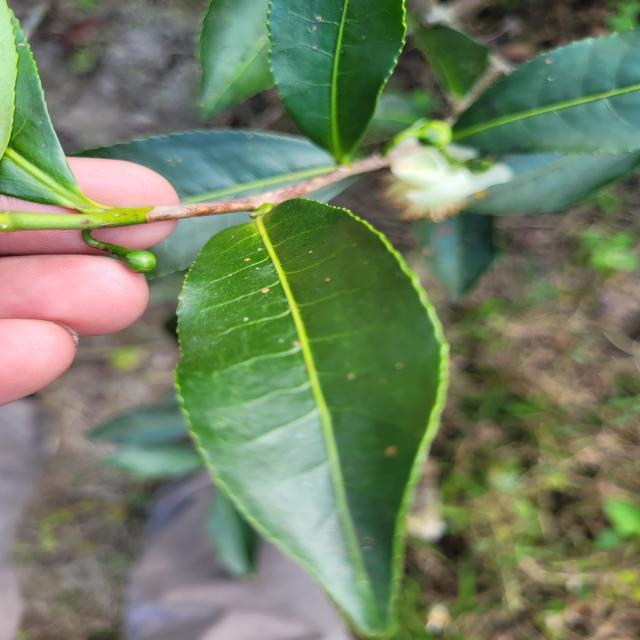Category D 7+ days, Not for Tea: (148, 176, 458, 640)
